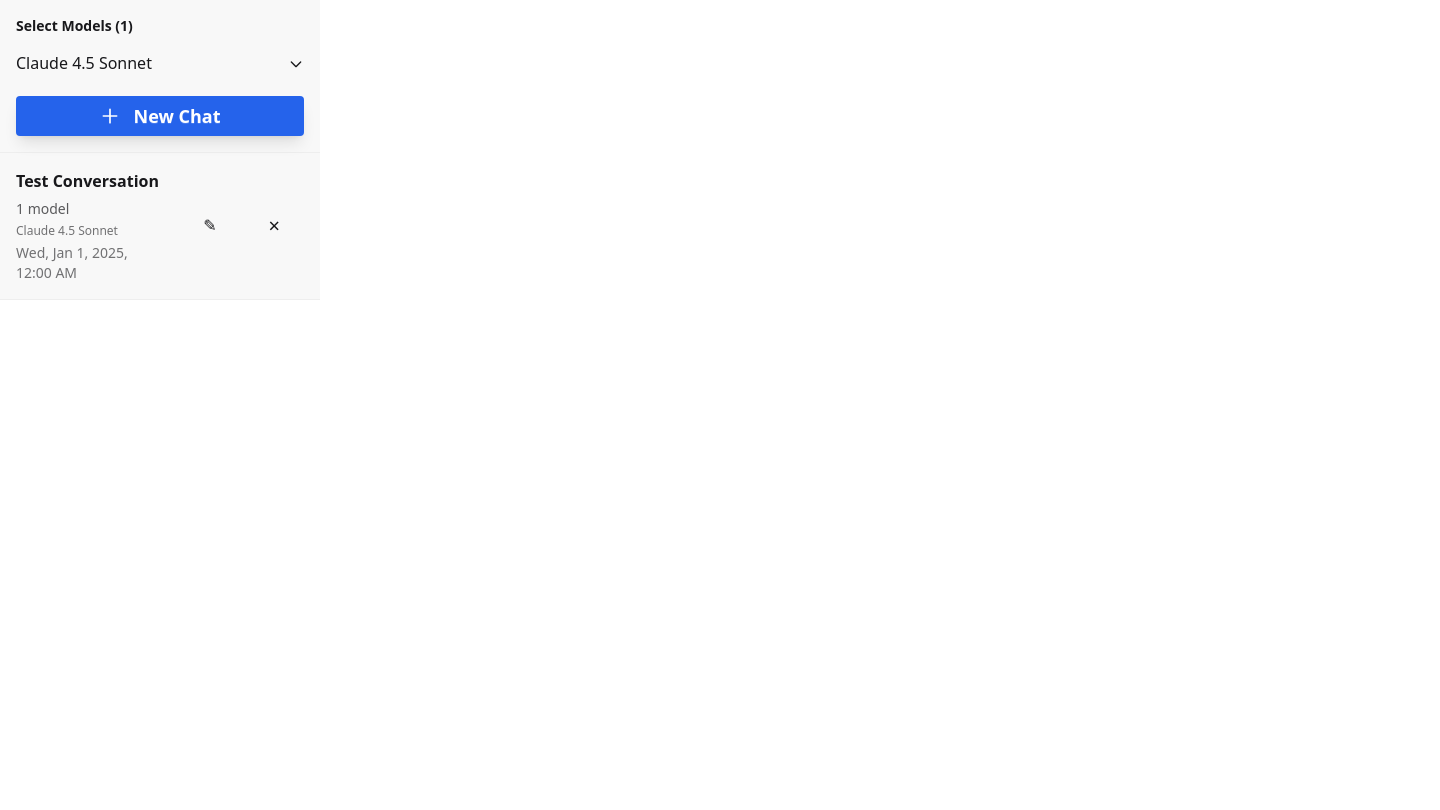
ConversationList › should open delete modal when delete button is clicked
The width and height of the screenshot is (1440, 810).
Click the button with test id "delete-conversation-button": (274, 226) [244,210,304,242]
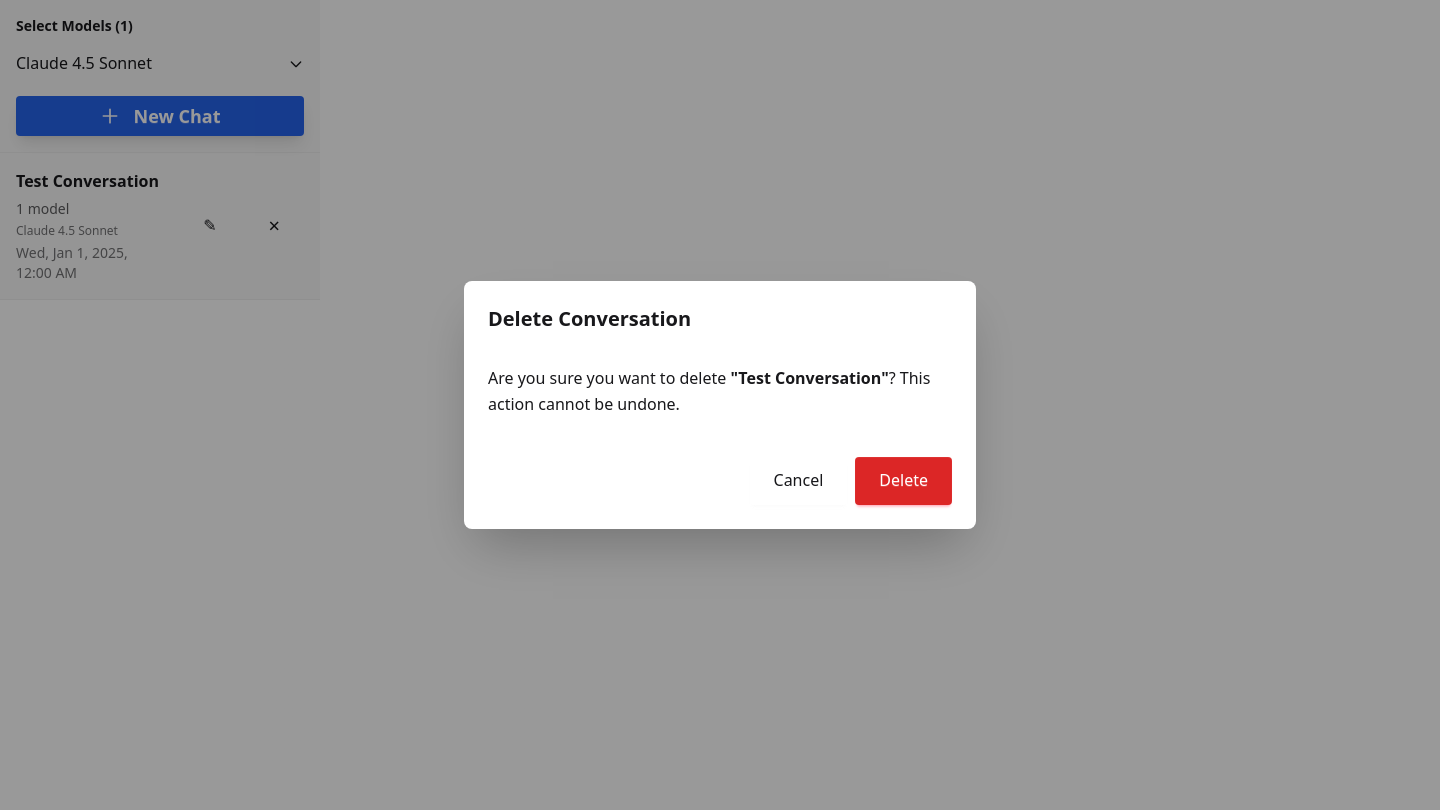
Expected: the dialog with test id "delete-conversation-modal" is shown
Expected: the heading "Delete Conversation" is shown, [488,305,691,332]
Expected: the text "Are you sure you want to delete" is shown, [488,367,730,389]
